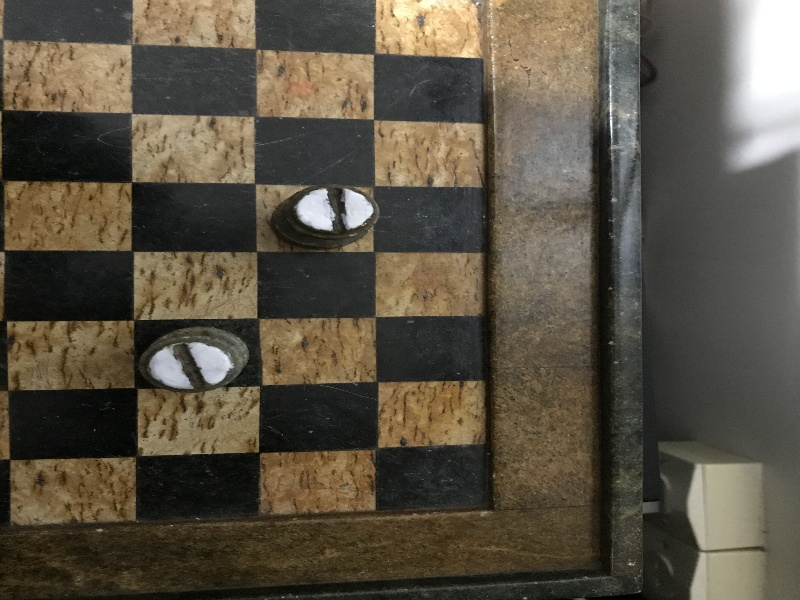WhiteRook: (139, 328, 250, 391), (271, 185, 379, 246)
